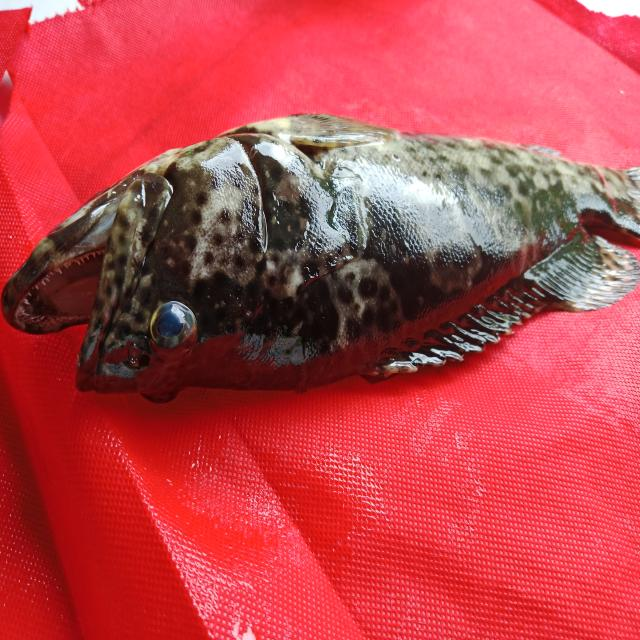ikan: (9, 105, 626, 404)
